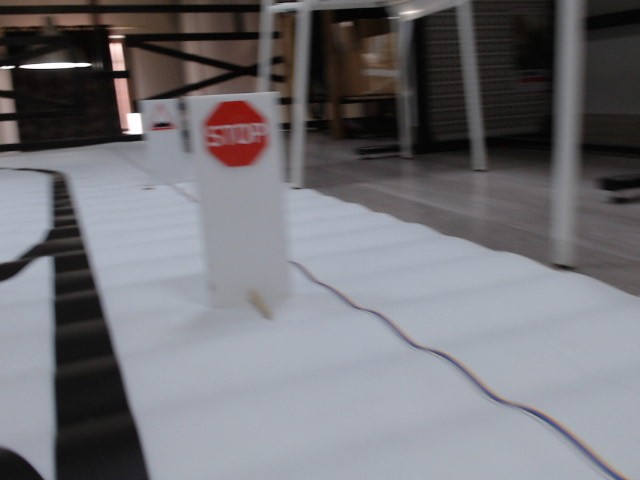Stop: (203, 102, 270, 166)
